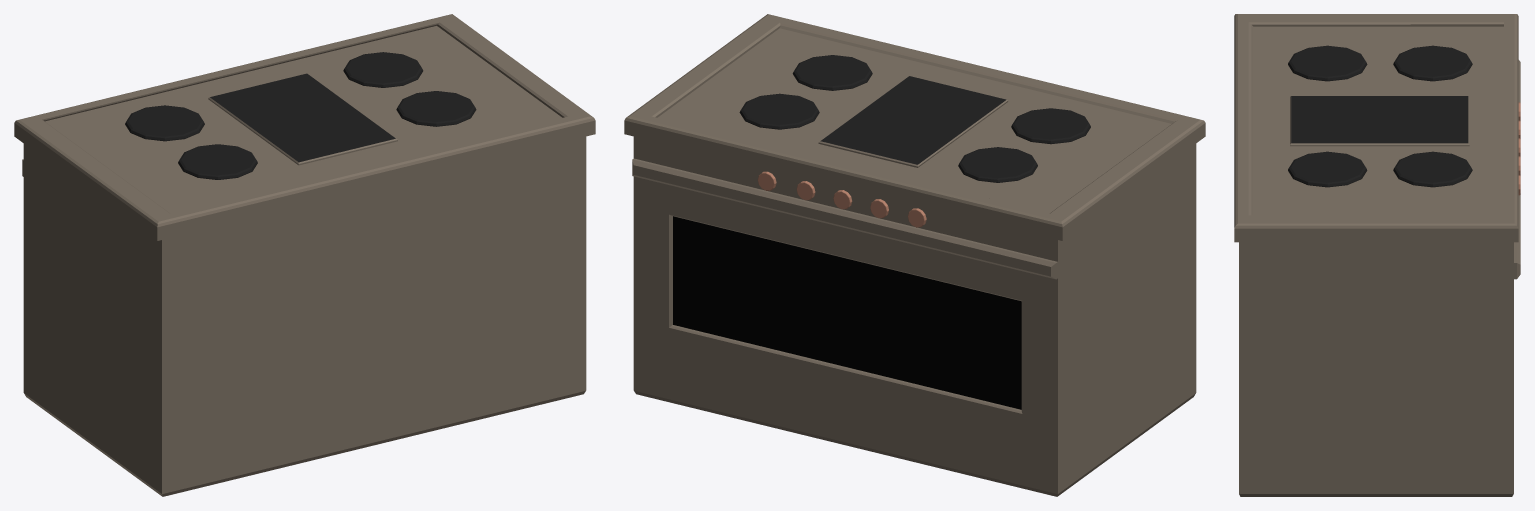
The model's file is Cocina.fbx.
3 renders of one model, left to right at view 1: azimuth 30°, elevation 25°; view 2: azimuth 150°, elevation 25°; view 3: azimuth 270°, elevation 25°, orthographic.
Parts seen in each view (by area): view 1: Cocina; view 2: Cocina; view 3: Cocina.
Boxes of the visible parts, x1,y1,x2,y2 form: Cocina: (14, 14, 595, 496); Cocina: (624, 14, 1205, 496); Cocina: (1234, 14, 1520, 496).
Size of the model in its own units: 1152 by 710 by 656.
